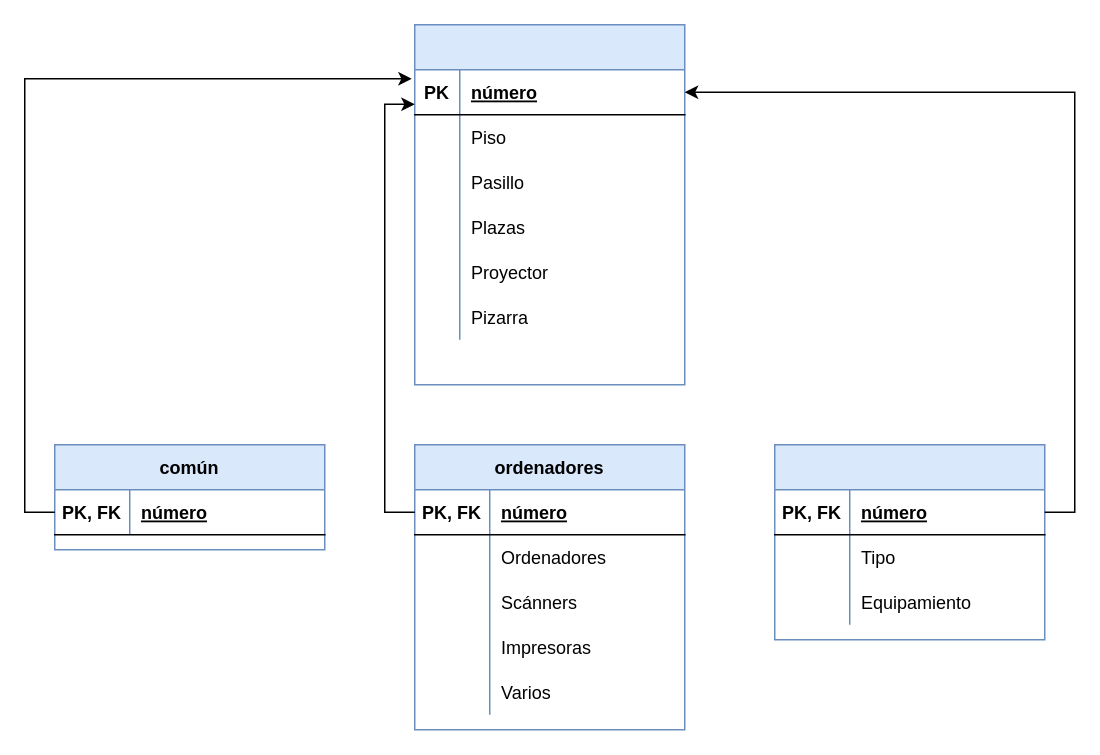
Image size: 1100x755. Some labels were removed from this diagram. The box of each missing label's shape, as (x1, y1, x2, y2) in pixels:
aula: (413, 23, 685, 385)
laboratorio: (773, 443, 1045, 640)
